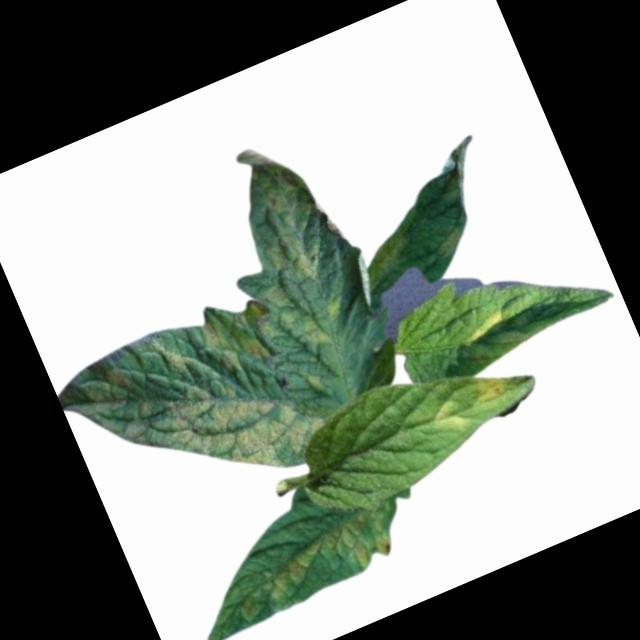Leaf_Mold: (52, 288, 334, 539), (190, 126, 384, 369), (218, 503, 401, 629), (460, 367, 513, 415), (427, 394, 476, 442), (427, 224, 470, 264), (458, 307, 507, 341)
